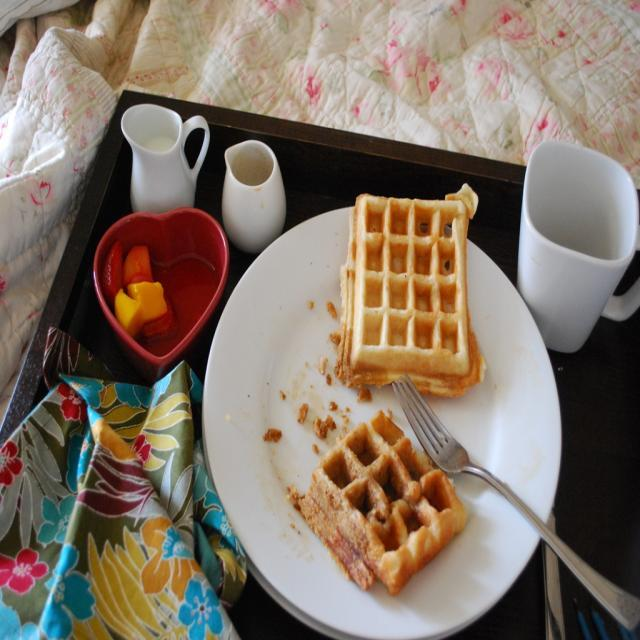Waffle: (288, 402, 468, 590), (333, 183, 485, 398)
